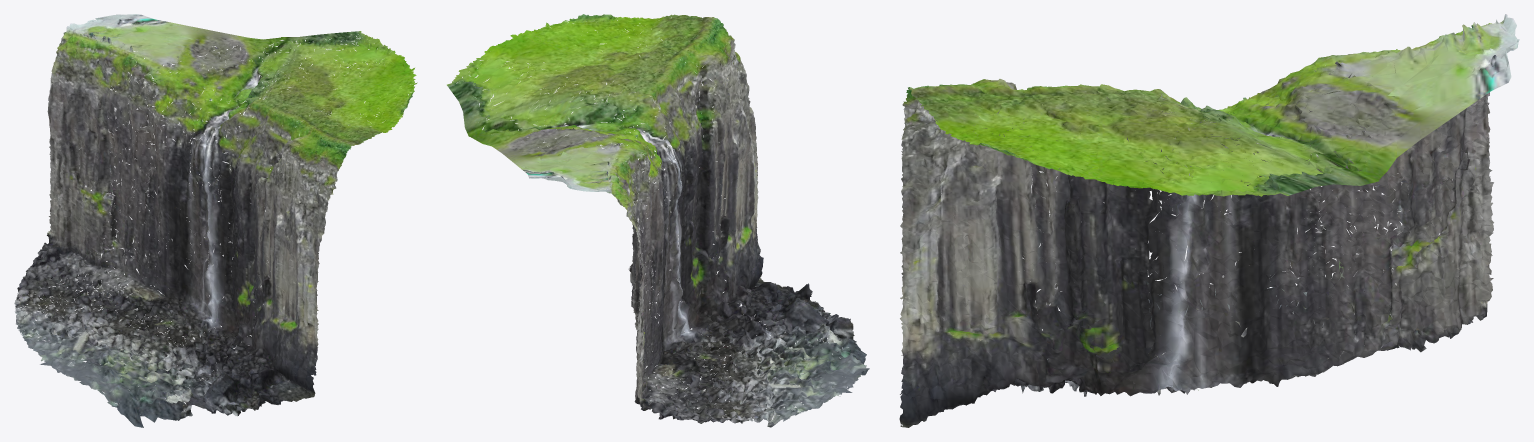
Rendered from Jotunheim_Waterfall_Valley.glb.
3 renders of one model, left to right at view 1: azimuth 30°, elevation 25°; view 2: azimuth 150°, elevation 25°; view 3: azimuth 270°, elevation 25°, orthographic. The views are drawn at different scales.
Visible parts, largest first — view 1: Model_Model_0_0 (×4); view 2: Model_Model_0_0 (×4); view 3: Model_Model_0_0 (×4).
Boxes of the visible parts, left/top/right/bottom form: Model_Model_0_0 (×4): left=14, top=14, right=417, bottom=427; Model_Model_0_0 (×4): left=447, top=14, right=869, bottom=427; Model_Model_0_0 (×4): left=899, top=14, right=1519, bottom=427.
Bounding box in the file's own units: 23.52 × 17.14 × 22.91.
Materials: 1 (1 with a texture image).
